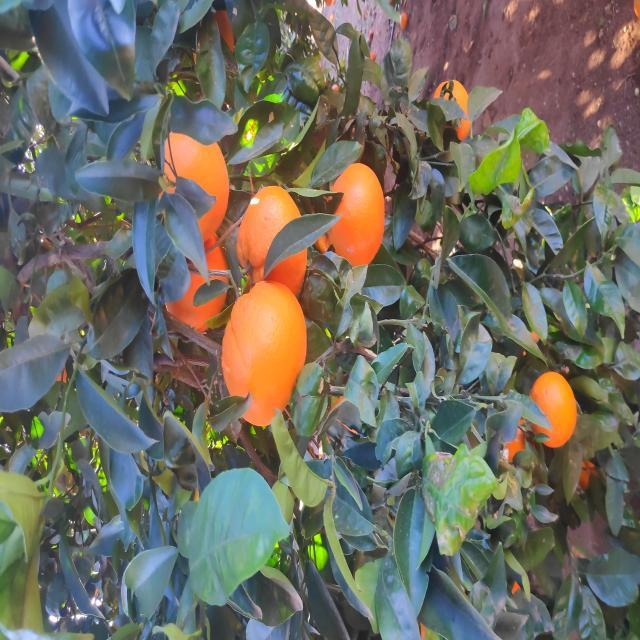Jeruk Sudah Matang: (214, 220, 359, 308), (345, 235, 457, 307), (398, 158, 508, 229), (370, 328, 480, 385), (310, 162, 395, 228), (191, 528, 270, 576), (506, 430, 565, 470)
